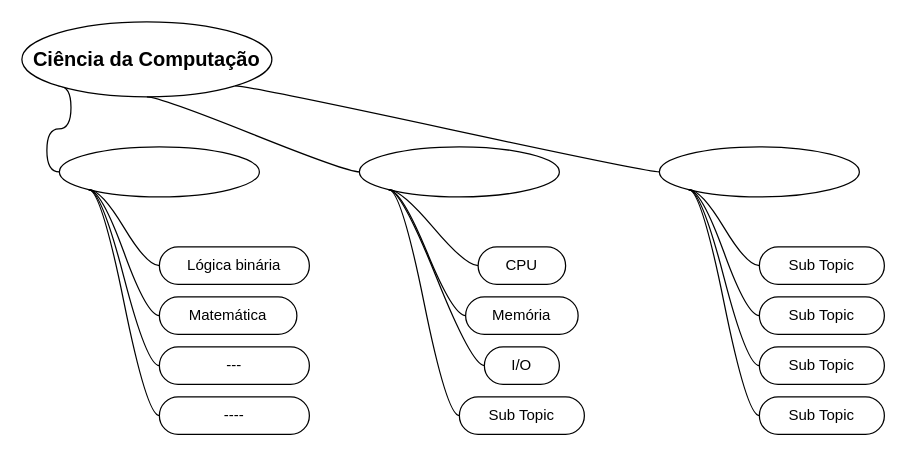
The diagram is 906 pixels wide and 456 high, and some of its shapes have lost their labels. Each missing label, with the centre of its shape:
Conceitos: the point at 158,171
Hardware: the point at 458,171
Software: the point at 758,171
